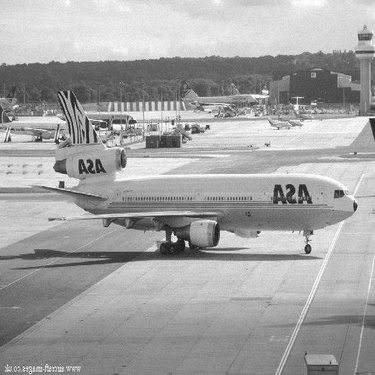airplane: (43, 83, 363, 267), (1, 93, 81, 151), (175, 69, 272, 115), (50, 101, 144, 134), (270, 85, 325, 123)
